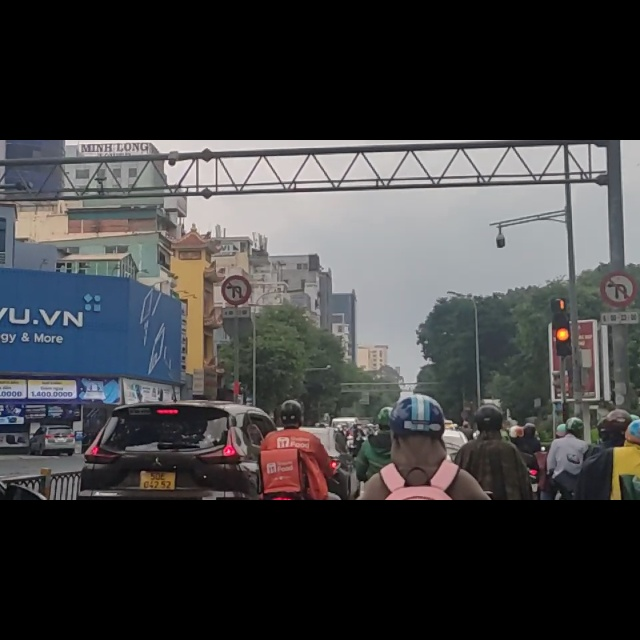bien_cam: (601, 233, 635, 299), (221, 237, 251, 294)
